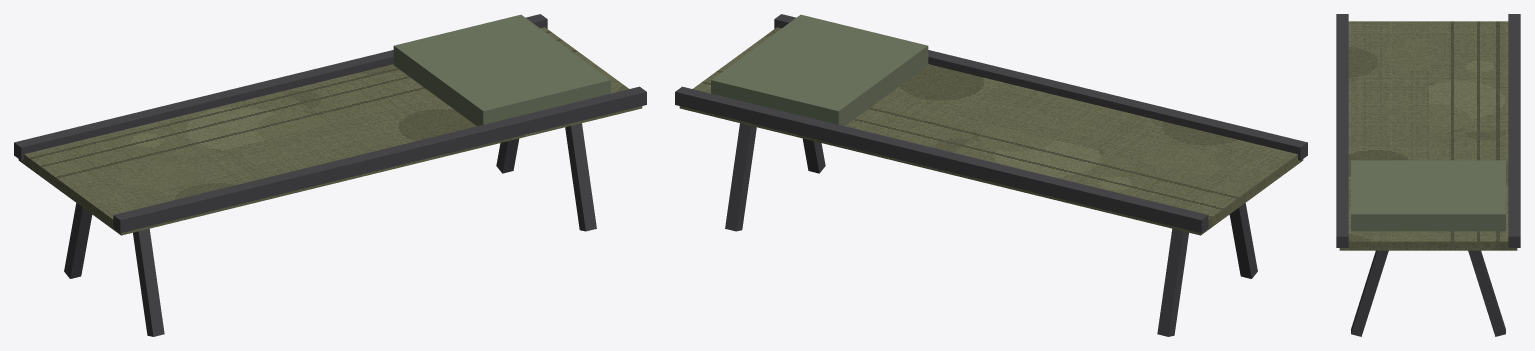
The model's file is fb_cot.glb.
The picture shows the model from 3 angles, left to right: view 1: azimuth 30°, elevation 25°; view 2: azimuth 150°, elevation 25°; view 3: azimuth 270°, elevation 25°; orthographic projection. The views are drawn at different scales.
Parts seen in each view (by area): view 1: fb_cot; view 2: fb_cot; view 3: fb_cot.
Boxes of the visible parts, <box> form: fb_cot: <box>14,14,646,336</box>; fb_cot: <box>675,14,1307,336</box>; fb_cot: <box>1336,14,1520,336</box>.
Size of what is drawn, in the model's own units: 1.9 by 0.512 by 0.665.
Materials: 3 (1 with a texture image).
